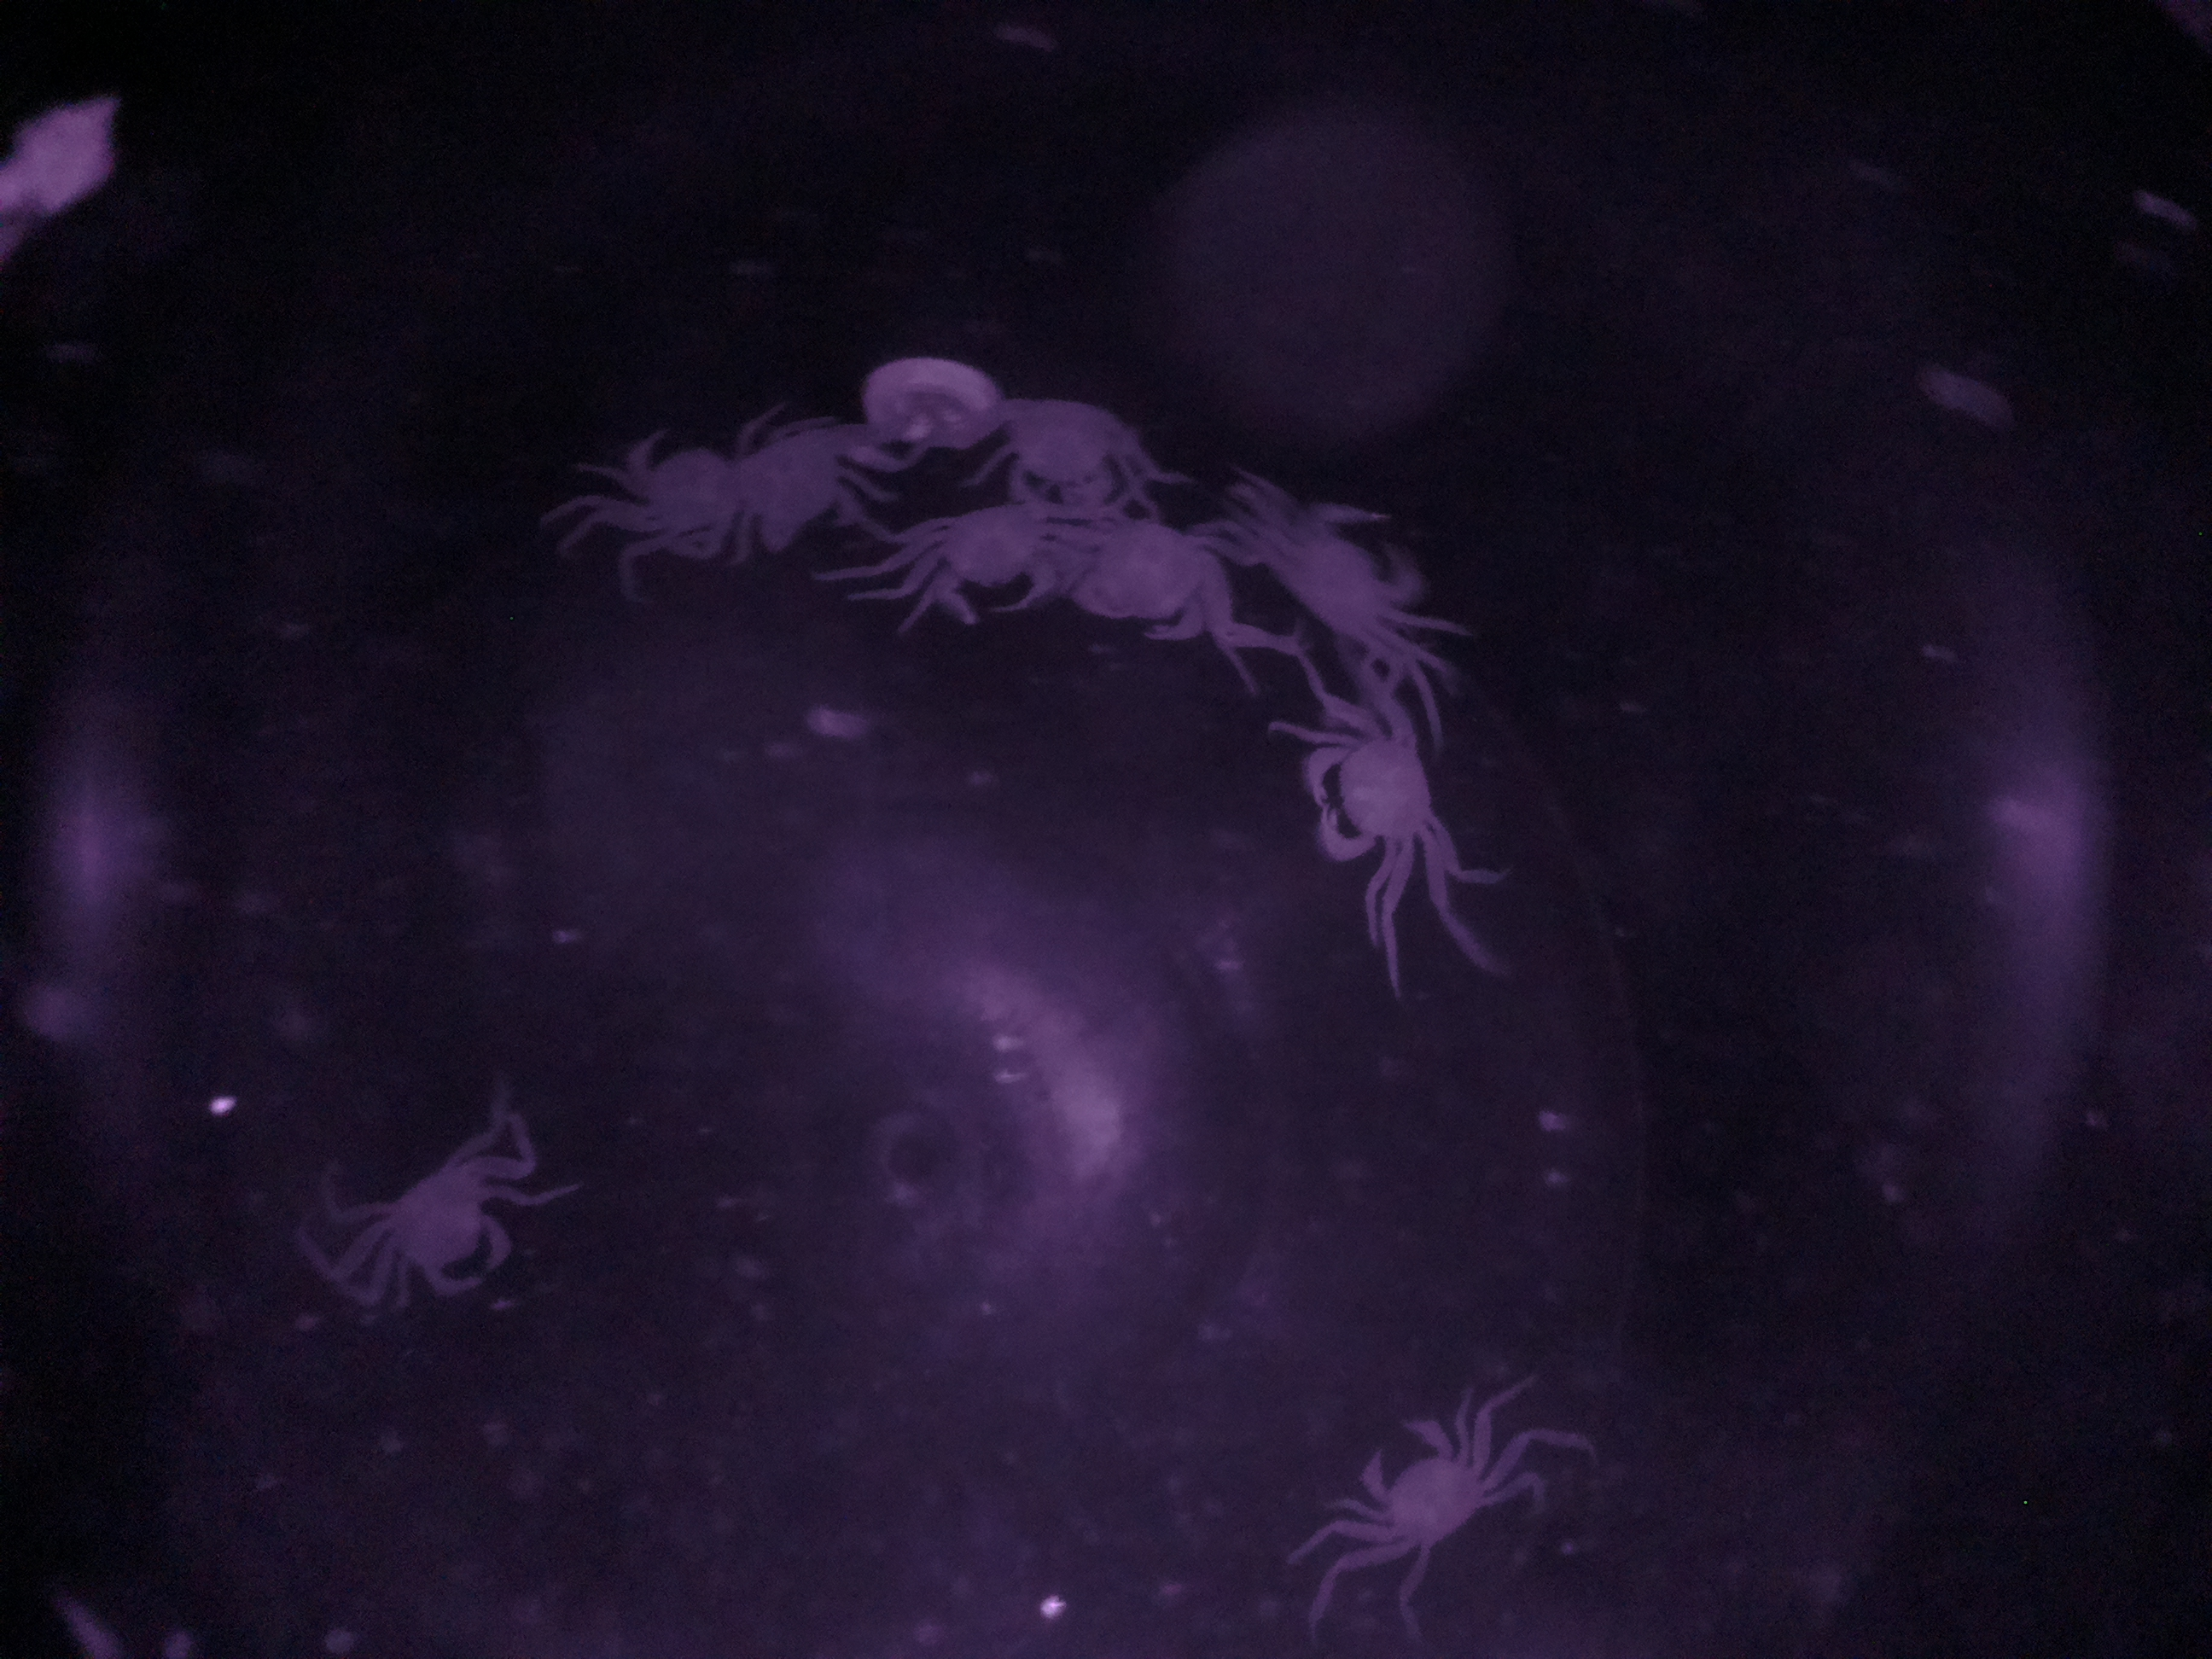Crab: (1282, 692, 1463, 896), (1315, 1387, 1508, 1574), (373, 1141, 519, 1317)
